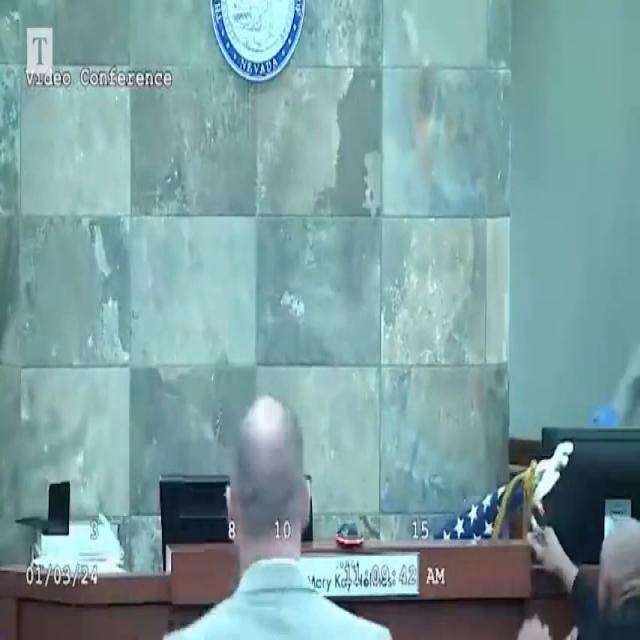non-fight: (153, 390, 395, 640)
